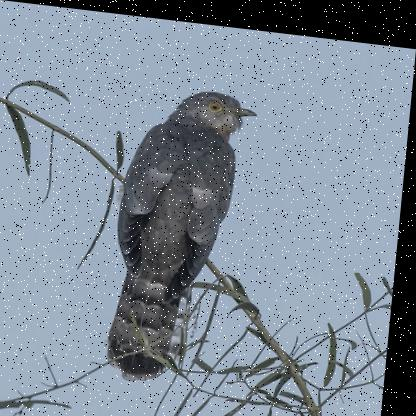Burung: (110, 79, 261, 386)
